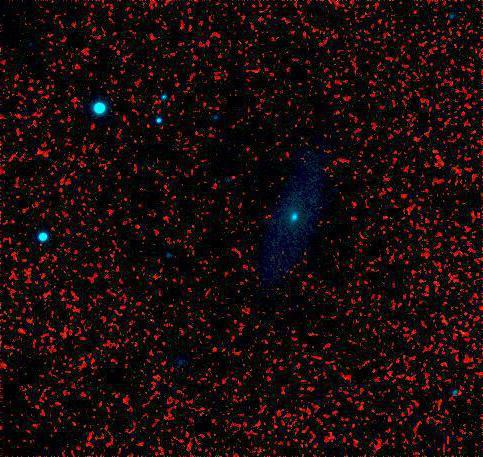star: (454, 313, 483, 343)
